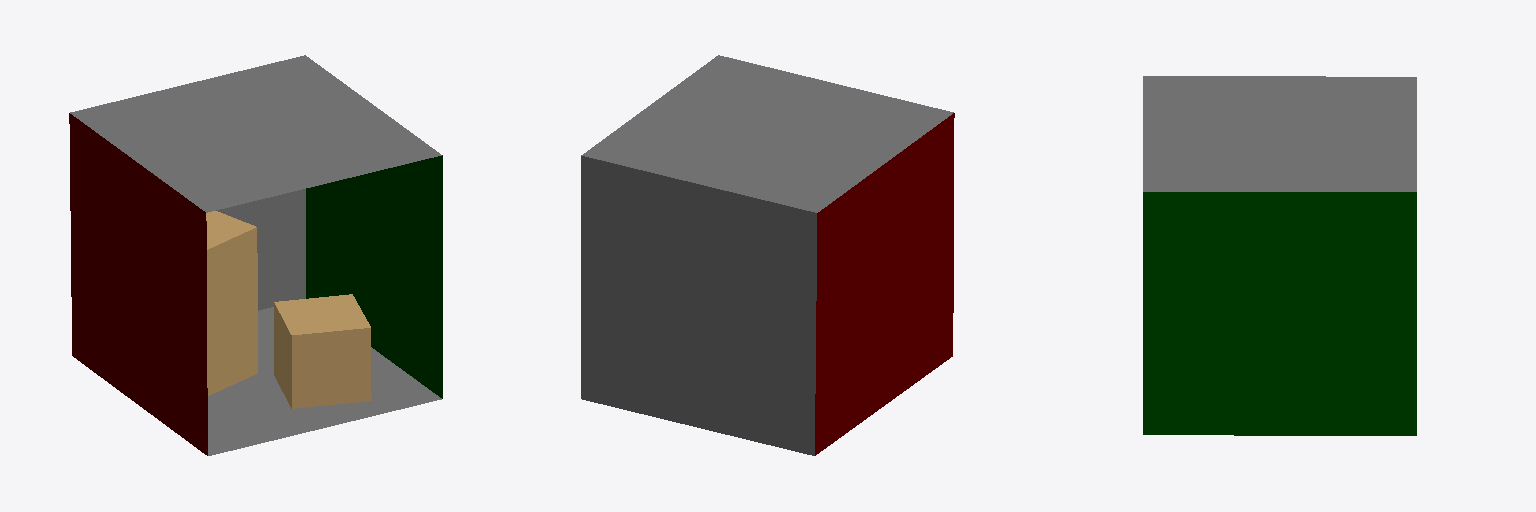
The model's file is cornellBox.obj.
The picture shows the model from 3 angles: view 1: azimuth 30°, elevation 25°; view 2: azimuth 150°, elevation 25°; view 3: azimuth 270°, elevation 25°; orthographic projection.
Parts seen in each view (by area): view 1: left_wall, ceiling, right_wall, floor, short_box, tall_box, back_wall; view 2: back_wall, left_wall, ceiling; view 3: right_wall, ceiling.
Part boxes in pixels (x1,y1,x2,y2): left_wall: (69, 113, 207, 455); ceiling: (70, 55, 441, 212); right_wall: (306, 155, 442, 398); floor: (208, 307, 441, 455); short_box: (274, 294, 371, 408); tall_box: (206, 211, 257, 395); back_wall: (216, 189, 305, 310); back_wall: (581, 156, 816, 455); left_wall: (815, 113, 954, 455); ceiling: (581, 55, 953, 212); right_wall: (1143, 192, 1416, 435); ceiling: (1143, 76, 1416, 191).
Bounding box in the file's own units: 5.56 × 5.49 × 5.6.